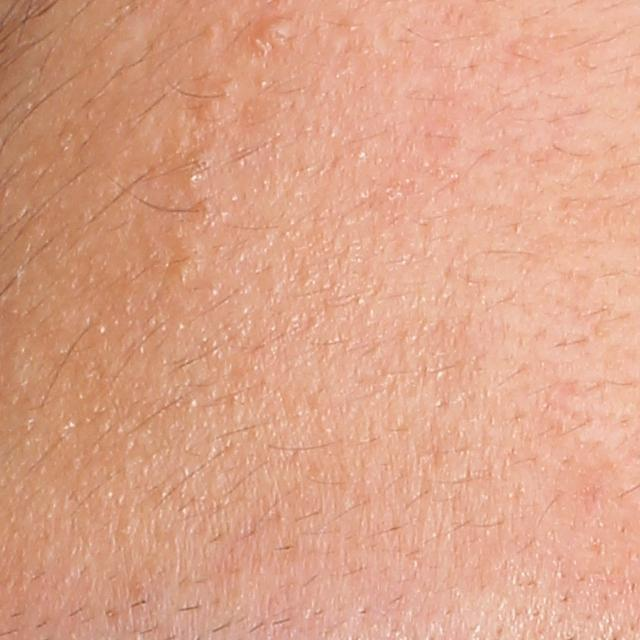comedo: (248, 15, 297, 53)
